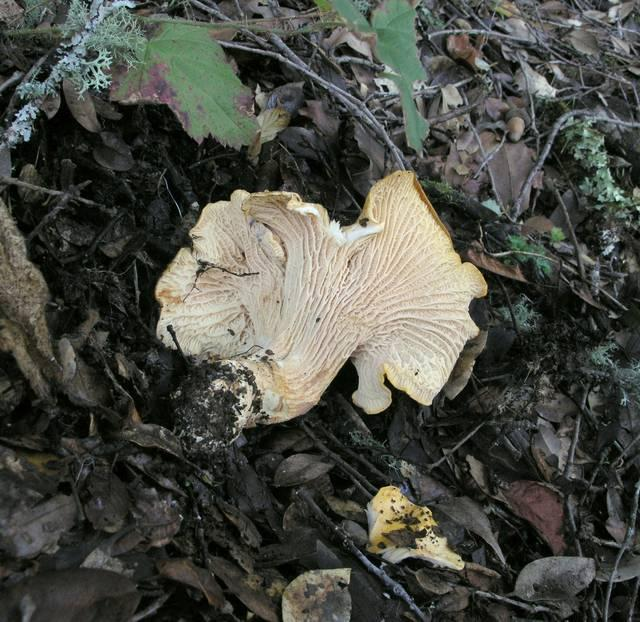Edible Mushroom: (152, 168, 489, 457)
